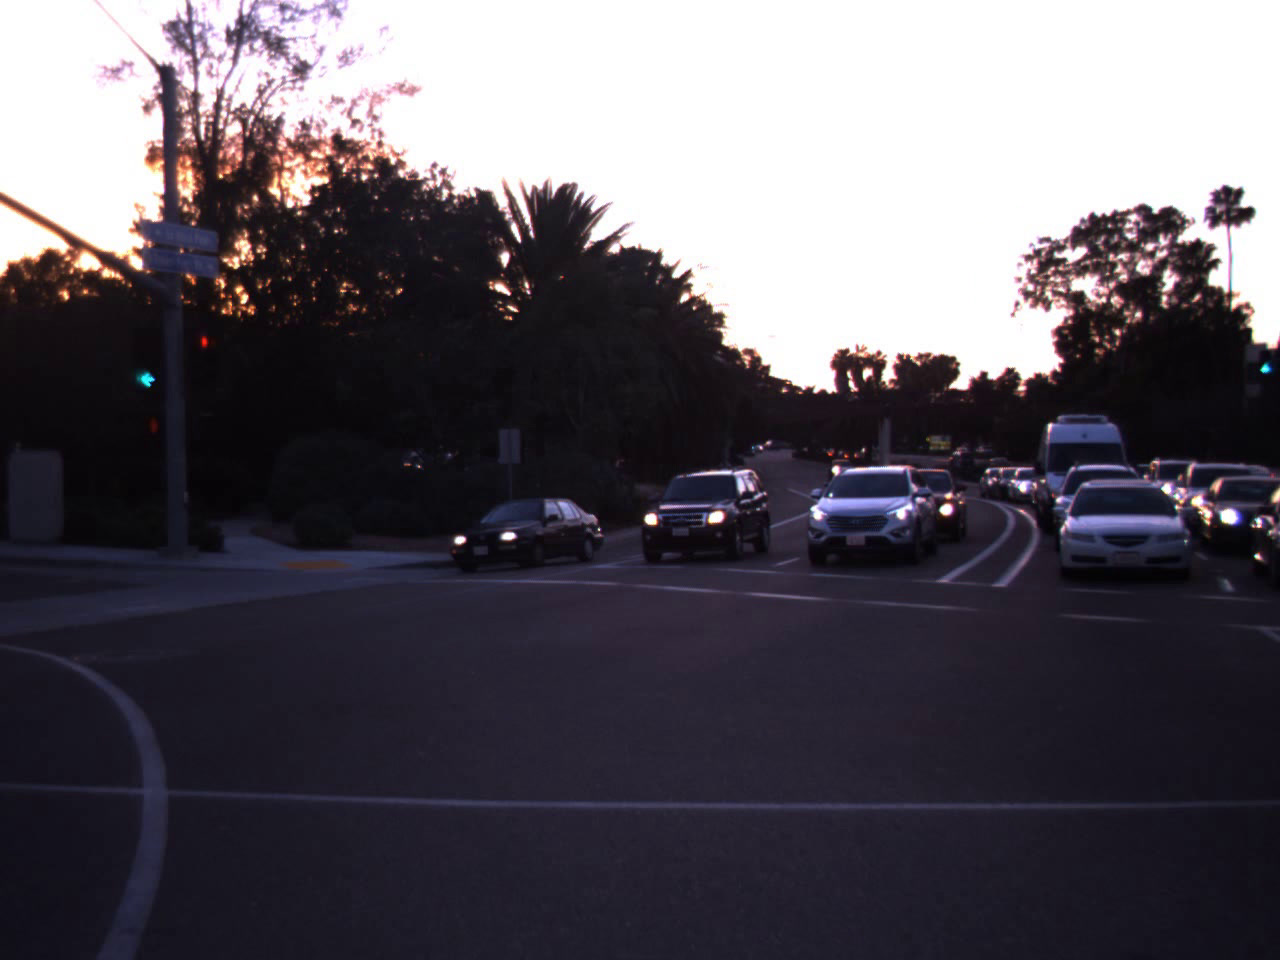go: (116, 307, 176, 397), (1255, 353, 1276, 373)
